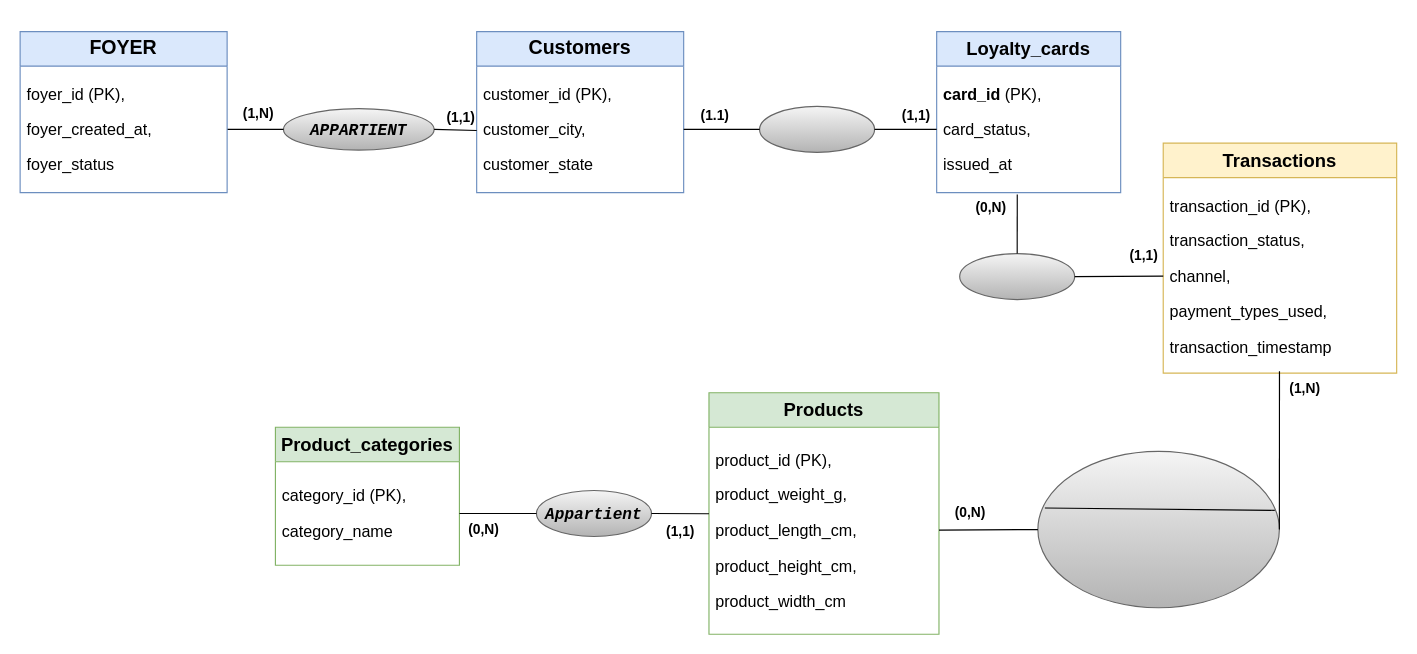
Some shapes in this 1417 by 654 pixel diagram are drawn without their labels. The shapes that lost their labels are listed below. From the top down, each one's centre as x and y in pixels, then its label:
At point 816,128: "POSSEDE".
At point 1017,276: "EFFECTUE".
At point 1158,529: "CONTIENT quantity, unit_price".
